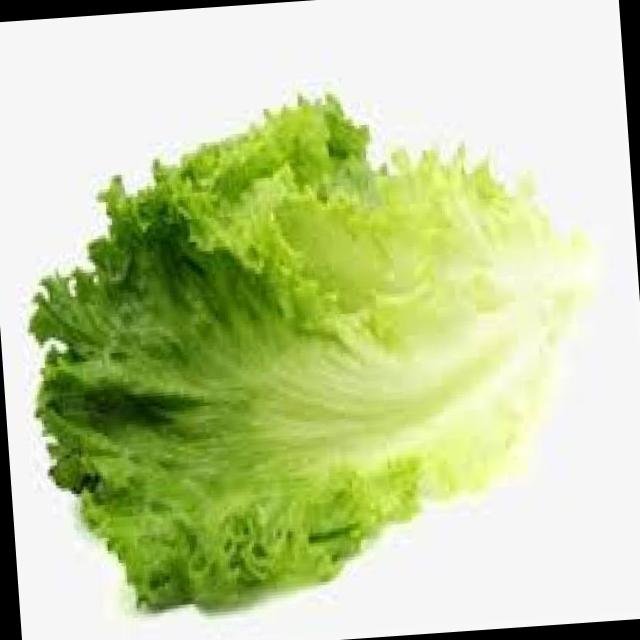Lettuce-Ready-to-Harvest: (31, 96, 586, 609)
